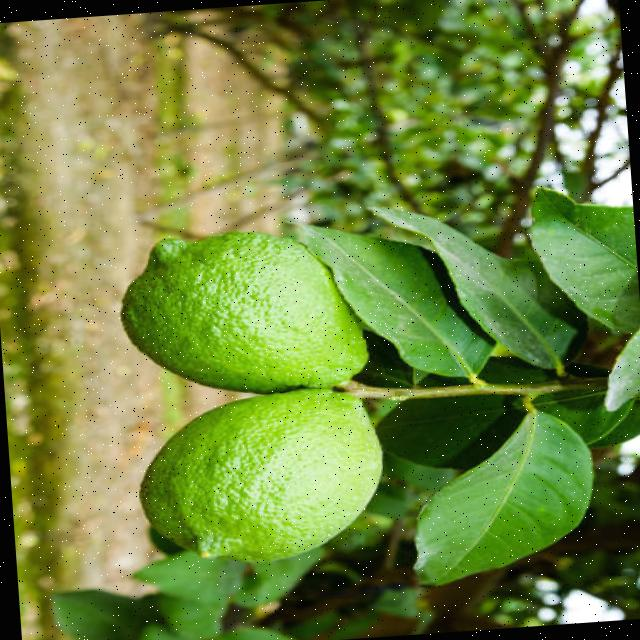Unripe: (135, 382, 392, 567), (113, 222, 370, 399)
